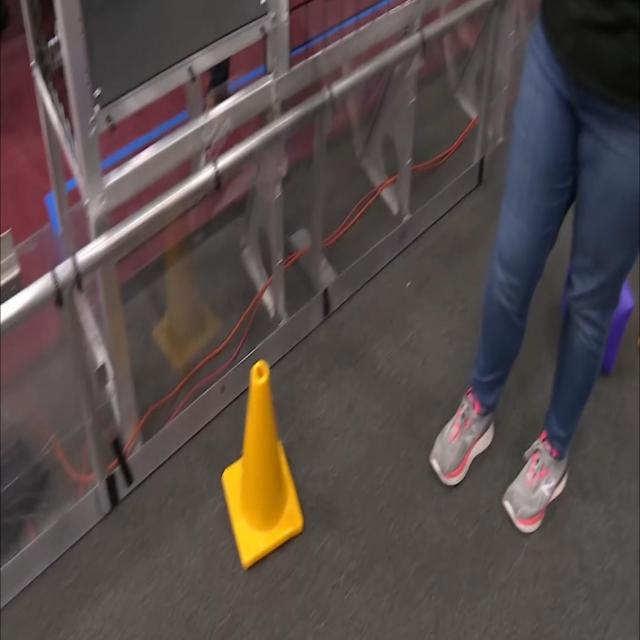frc_cone: (220, 325, 303, 551)
frc_cube: (604, 272, 634, 372)
